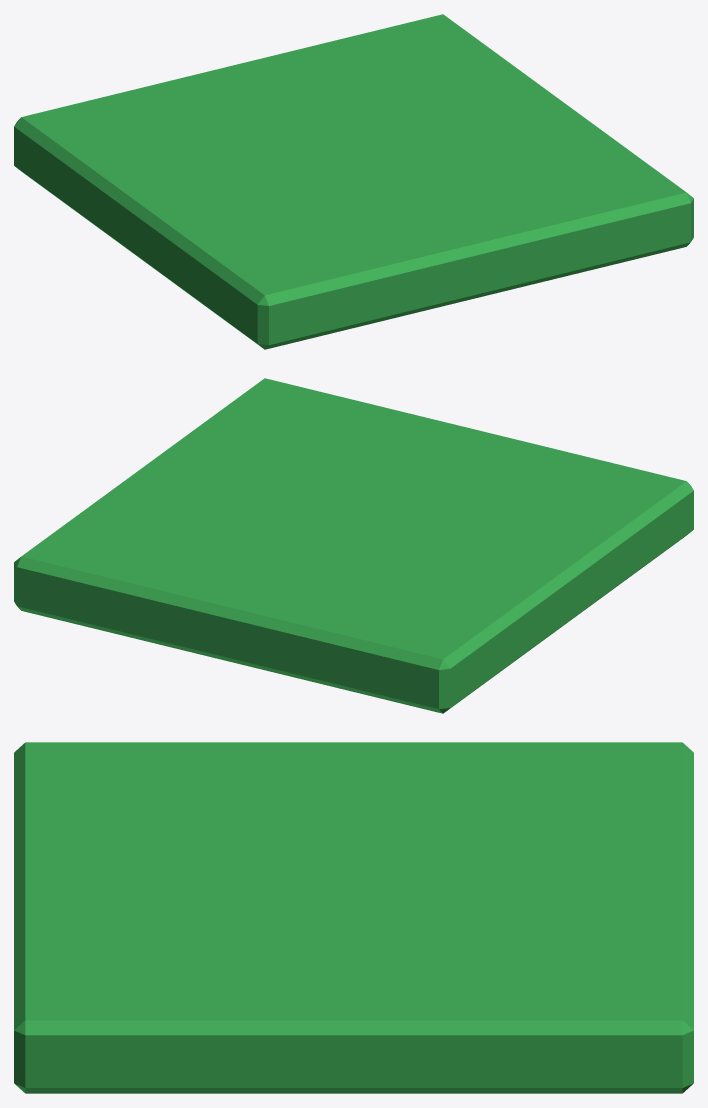
File: platform_small.glb
3 renders of one model, top to bottom at view 1: azimuth 30°, elevation 25°; view 2: azimuth 150°, elevation 25°; view 3: azimuth 270°, elevation 25°, orthographic. The views are drawn at different scales.
Visible parts, largest first — view 1: platform_small; view 2: platform_small; view 3: platform_small.
Part boxes in pixels (x1,y1,x2,y2): platform_small: [14, 14, 693, 349]; platform_small: [14, 378, 693, 713]; platform_small: [14, 742, 693, 1093].
Size of the model in its own units: 0.42 by 0.05 by 0.42.
